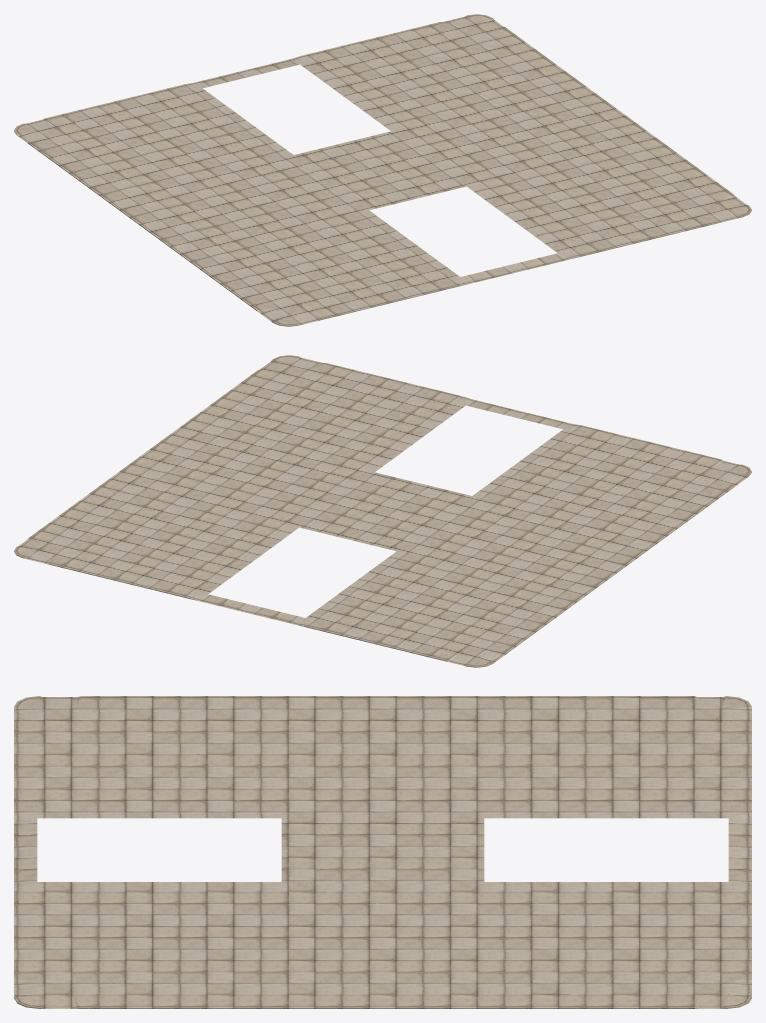
The model's file is Underground_ConcreteBlock.fbx.
3 views of the same model, one above another, from view 1: azimuth 30°, elevation 25°; view 2: azimuth 150°, elevation 25°; view 3: azimuth 270°, elevation 25° (orthographic). The views are drawn at different scales.
Visible parts, largest first — view 1: PlayUp_Underground_ConcreteBlock; view 2: PlayUp_Underground_ConcreteBlock; view 3: PlayUp_Underground_ConcreteBlock.
Boxes of the visible parts, left/top/right/bottom form: PlayUp_Underground_ConcreteBlock: left=14, top=14, right=751, bottom=326; PlayUp_Underground_ConcreteBlock: left=14, top=355, right=751, bottom=667; PlayUp_Underground_ConcreteBlock: left=14, top=696, right=751, bottom=1008.
Size of the model in its own units: 72.74 by 0.105 by 72.74.
